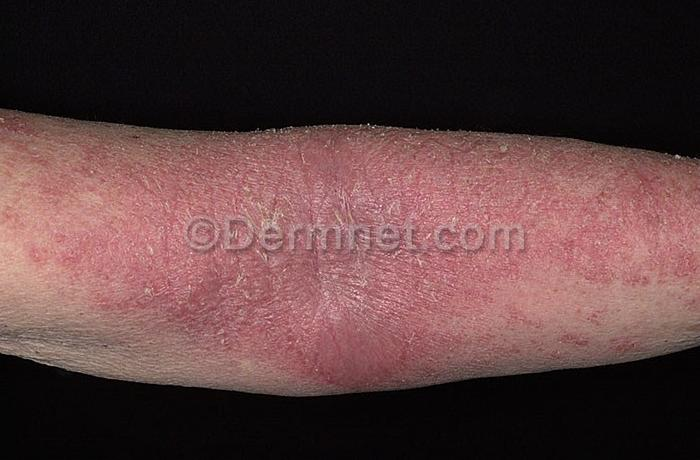eritema 3: (0, 106, 700, 385)
xerosis 3: (0, 112, 700, 281)
